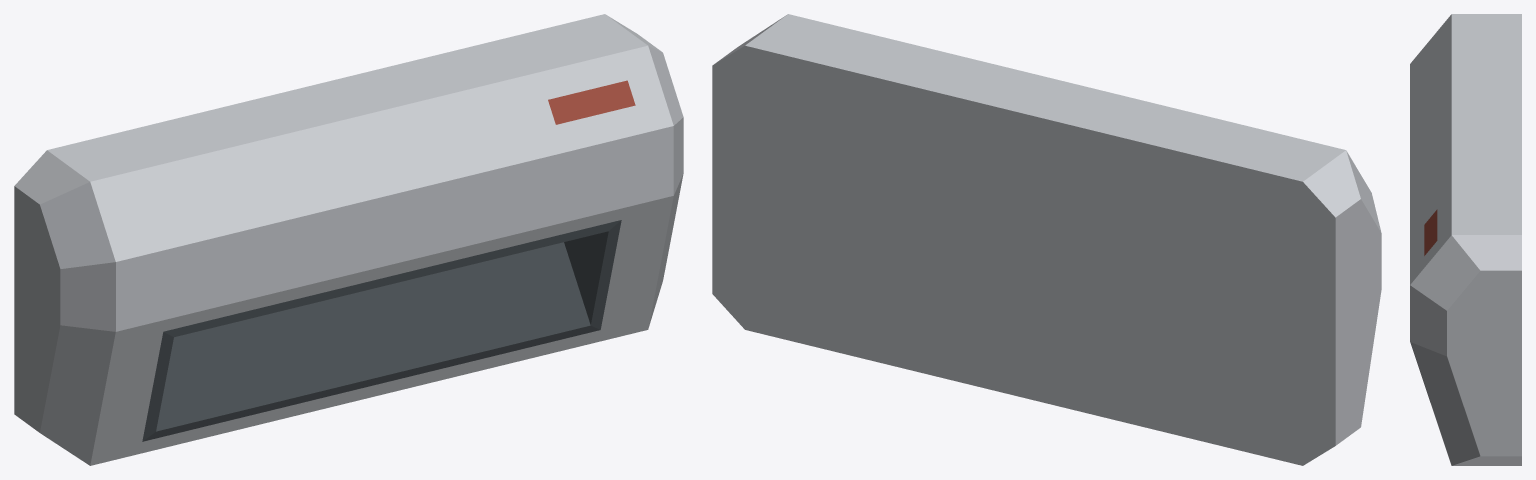
Rendered from SM_Prop_Heater_02.fbx.
The picture shows the model from 3 angles, left to right: view 1: azimuth 30°, elevation 25°; view 2: azimuth 150°, elevation 25°; view 3: azimuth 270°, elevation 25°; orthographic projection. The views are drawn at different scales.
Parts seen in each view (by area): view 1: SM_Prop_Heater_02; view 2: SM_Prop_Heater_02; view 3: SM_Prop_Heater_02.
Boxes of the visible parts, x1,y1,x2,y2 form: SM_Prop_Heater_02: (14, 14, 683, 465); SM_Prop_Heater_02: (712, 14, 1381, 465); SM_Prop_Heater_02: (1410, 14, 1521, 465).
Size of the model in its own units: 115 by 50 by 21.96.
